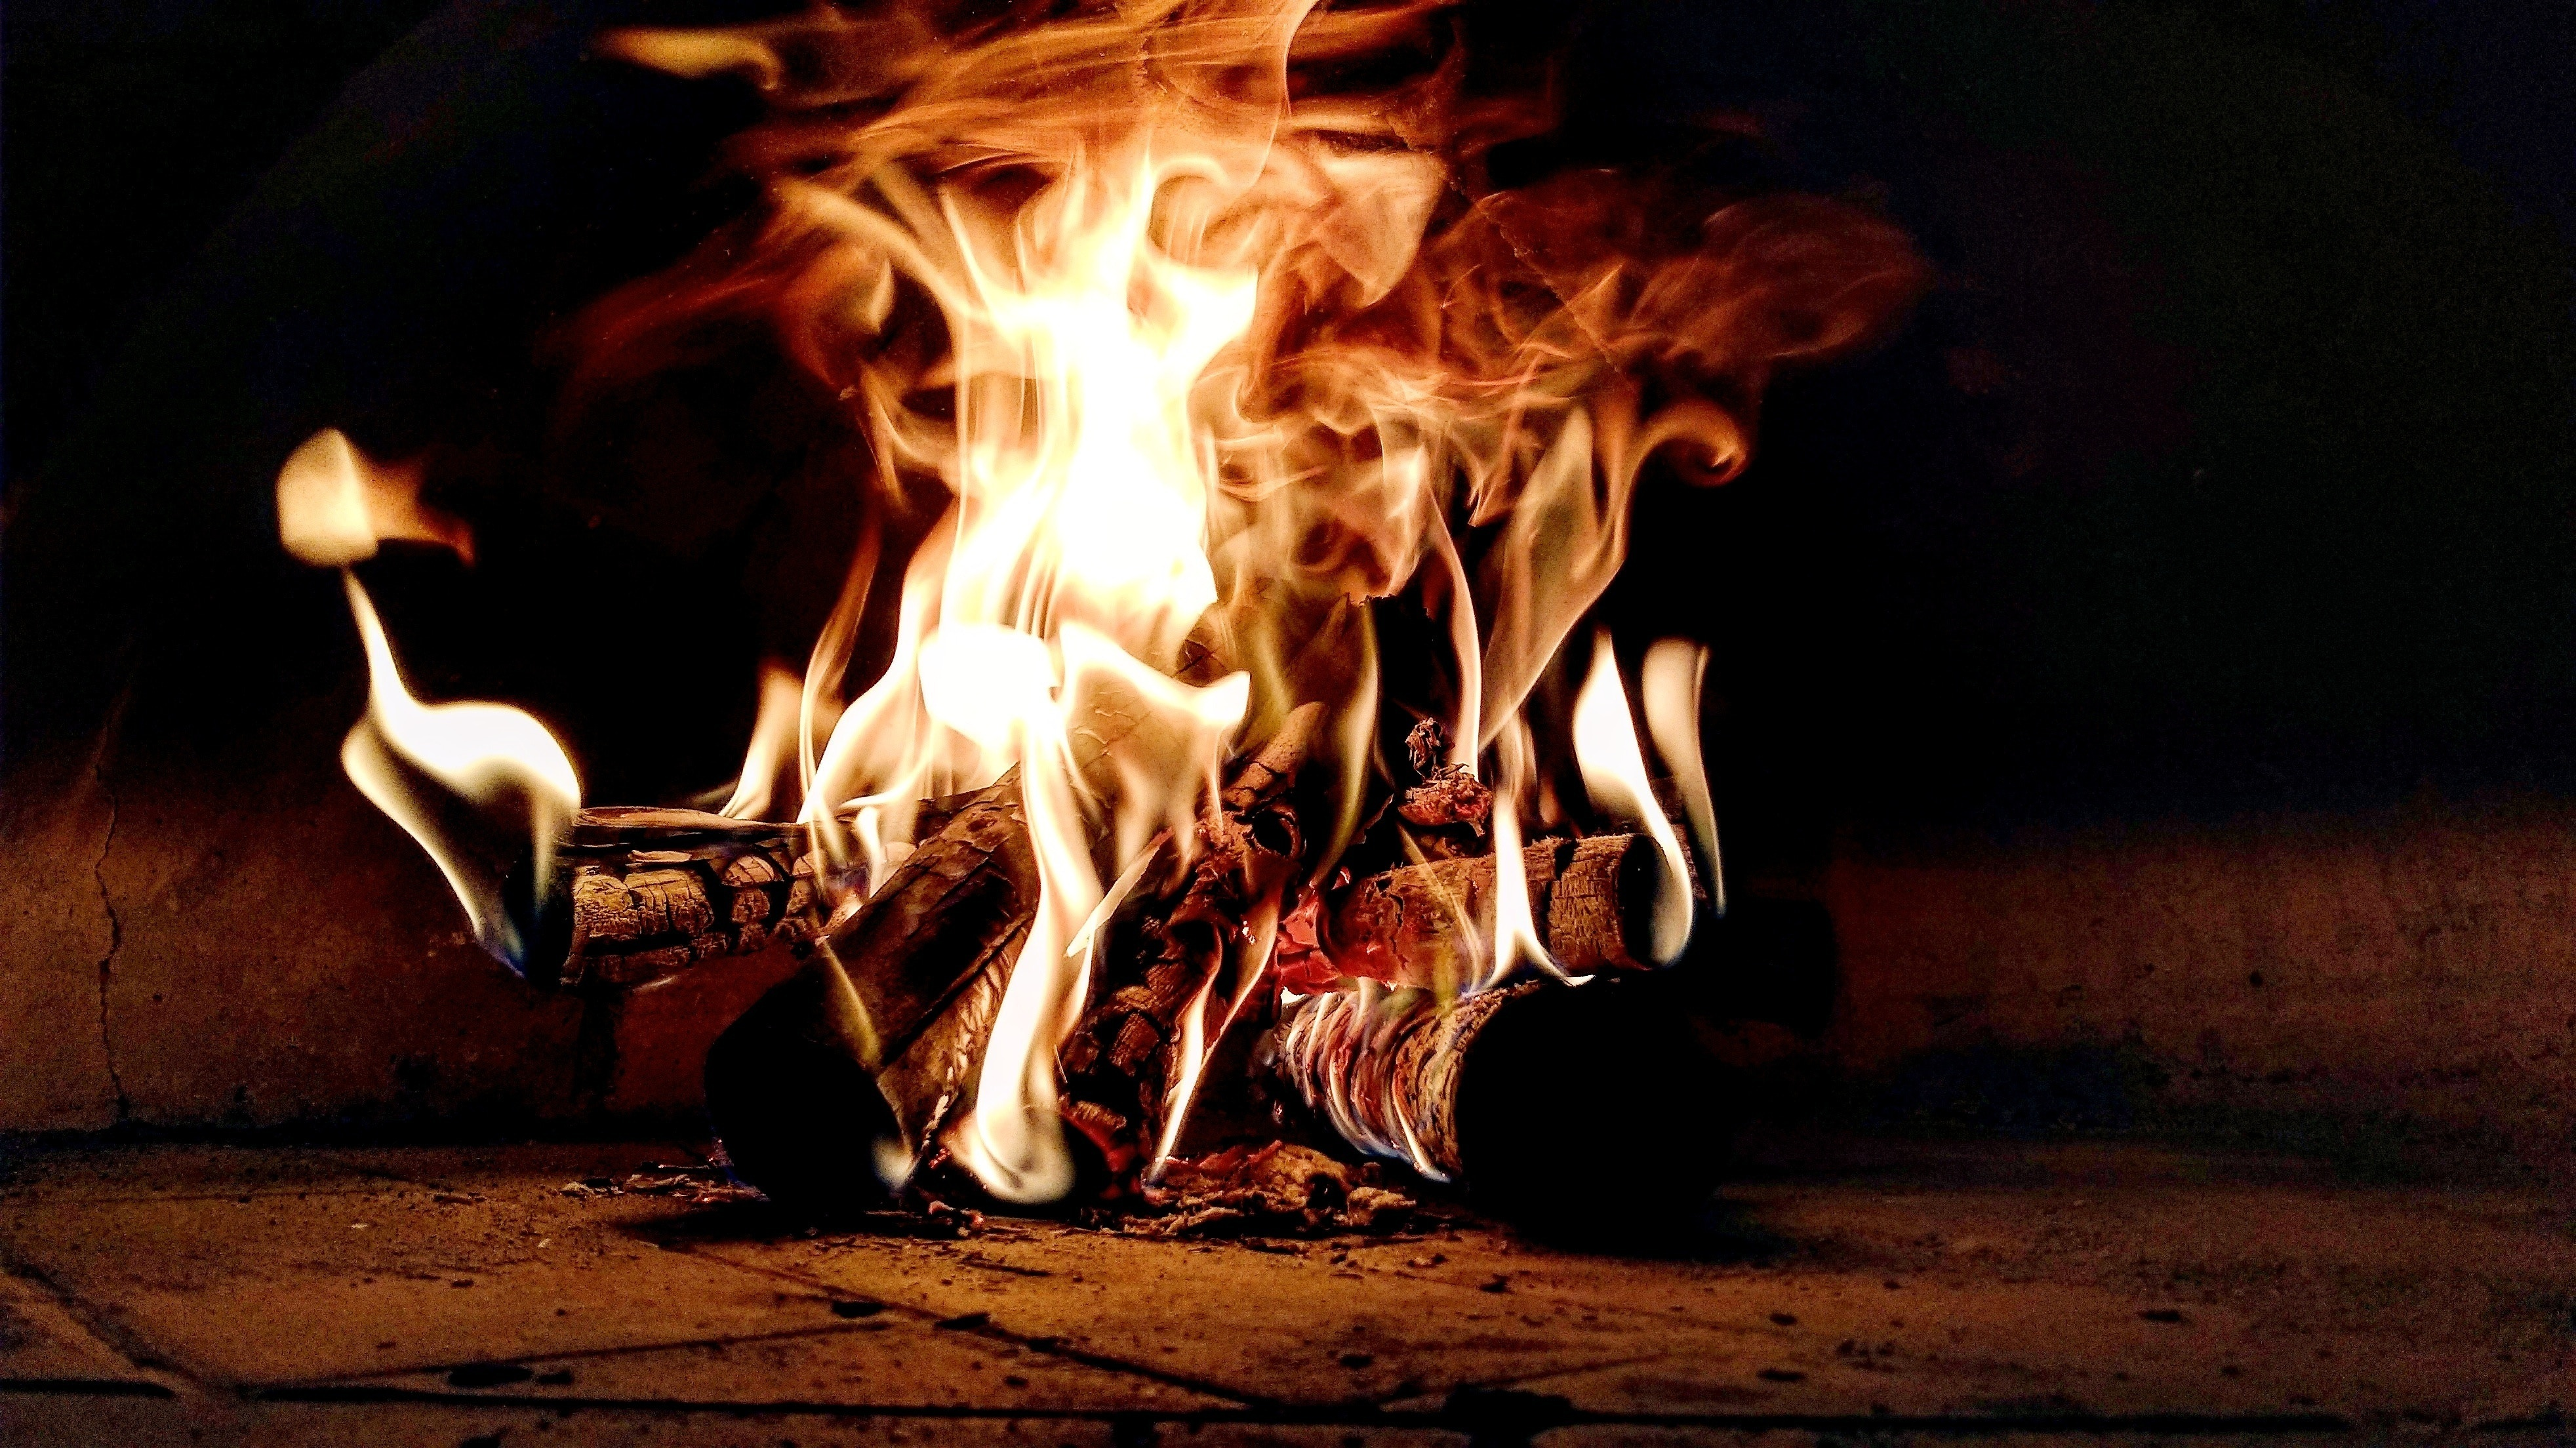fire: (269, 9, 1711, 1266)
